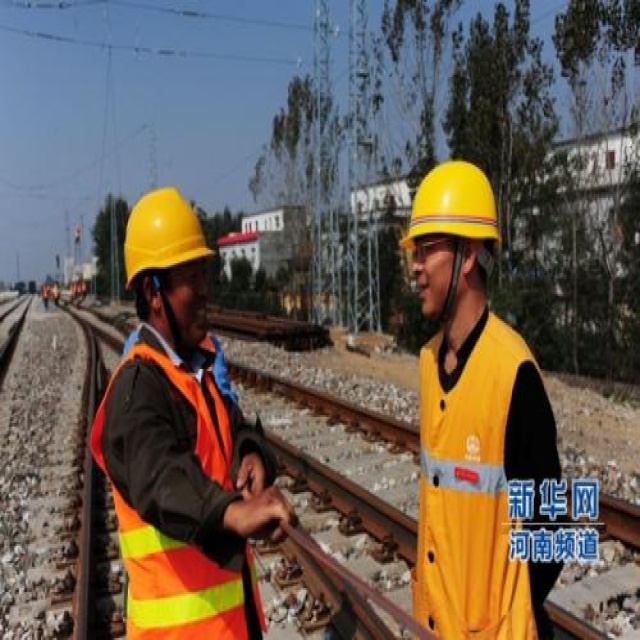Helmet: (394, 149, 514, 332), (117, 182, 226, 353)
Reflective vest: (89, 347, 270, 640), (399, 318, 543, 640)
